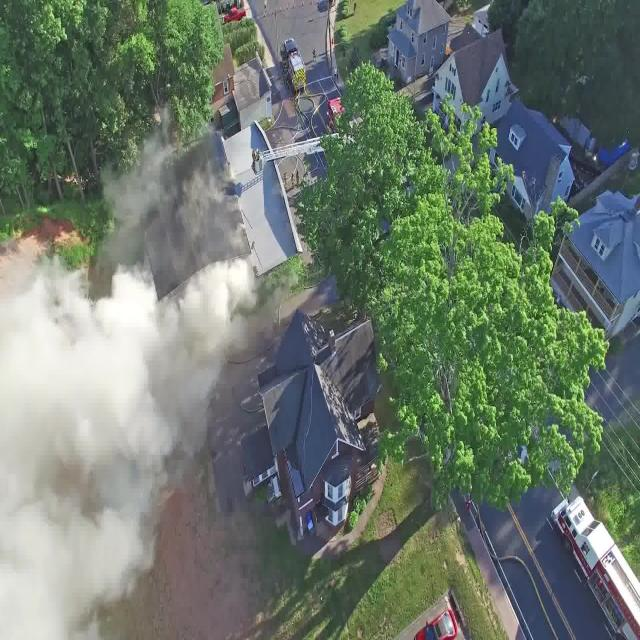Smoke: (0, 204, 256, 640)
